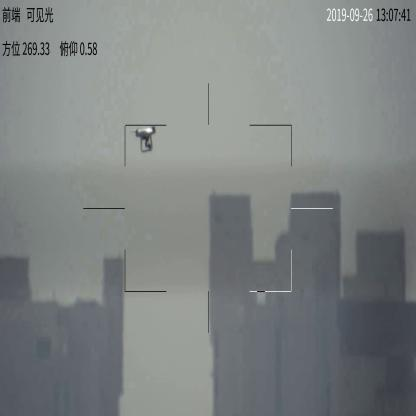uav: (129, 120, 159, 153)
